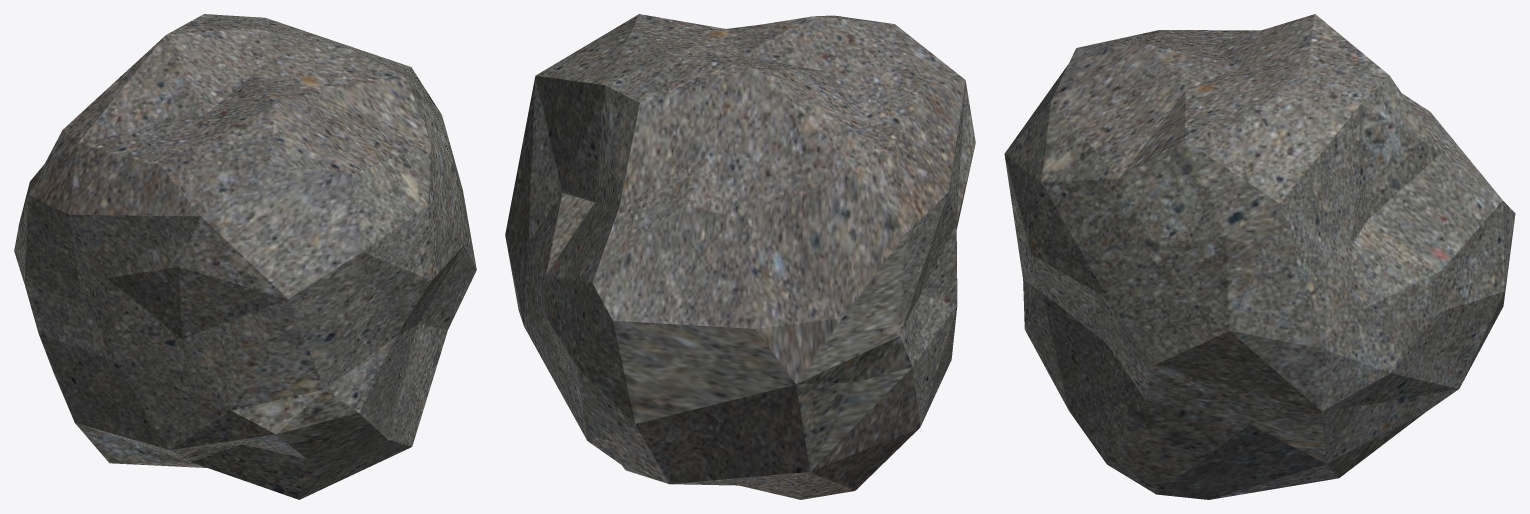
Rendered from boulder.glb.
The picture shows the model from 3 angles, left to right: view 1: azimuth 30°, elevation 25°; view 2: azimuth 150°, elevation 25°; view 3: azimuth 270°, elevation 25°; orthographic projection. The views are drawn at different scales.
Parts seen in each view (by area): view 1: Icosphere; view 2: Icosphere; view 3: Icosphere.
Boxes of the visible parts, x1,y1,x2,y2 form: Icosphere: (14, 14, 476, 499); Icosphere: (505, 14, 975, 499); Icosphere: (1004, 14, 1515, 499).
Size of the model in its own units: 2.65 by 2.64 by 2.92.
Materials: 1 (1 with a texture image).
